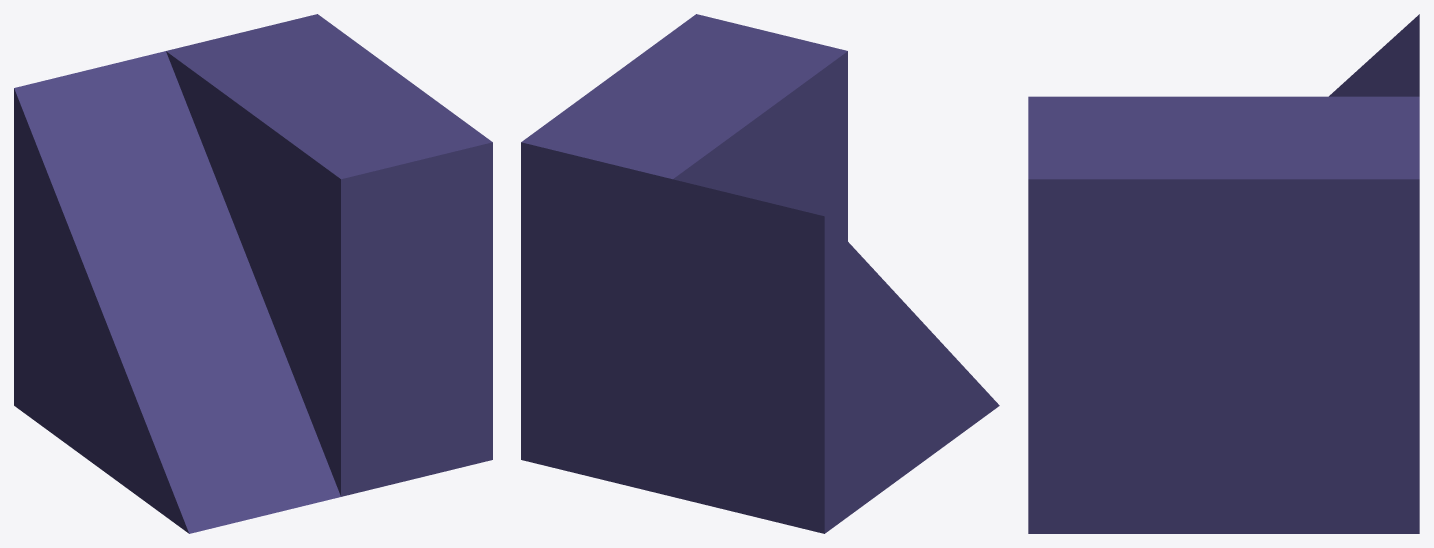
Rendered from Pieza-C.glb.
3 renders of one model, left to right at view 1: azimuth 30°, elevation 25°; view 2: azimuth 150°, elevation 25°; view 3: azimuth 270°, elevation 25°, orthographic. The views are drawn at different scales.
Visible parts, largest first — view 1: Pieza-C.stl; view 2: Pieza-C.stl; view 3: Pieza-C.stl.
Boxes of the visible parts, bbox=[...] form: Pieza-C.stl: bbox=[14, 14, 492, 533]; Pieza-C.stl: bbox=[521, 14, 999, 533]; Pieza-C.stl: bbox=[1028, 14, 1419, 533].
Size of the model in its own units: 4 by 4 by 4.
